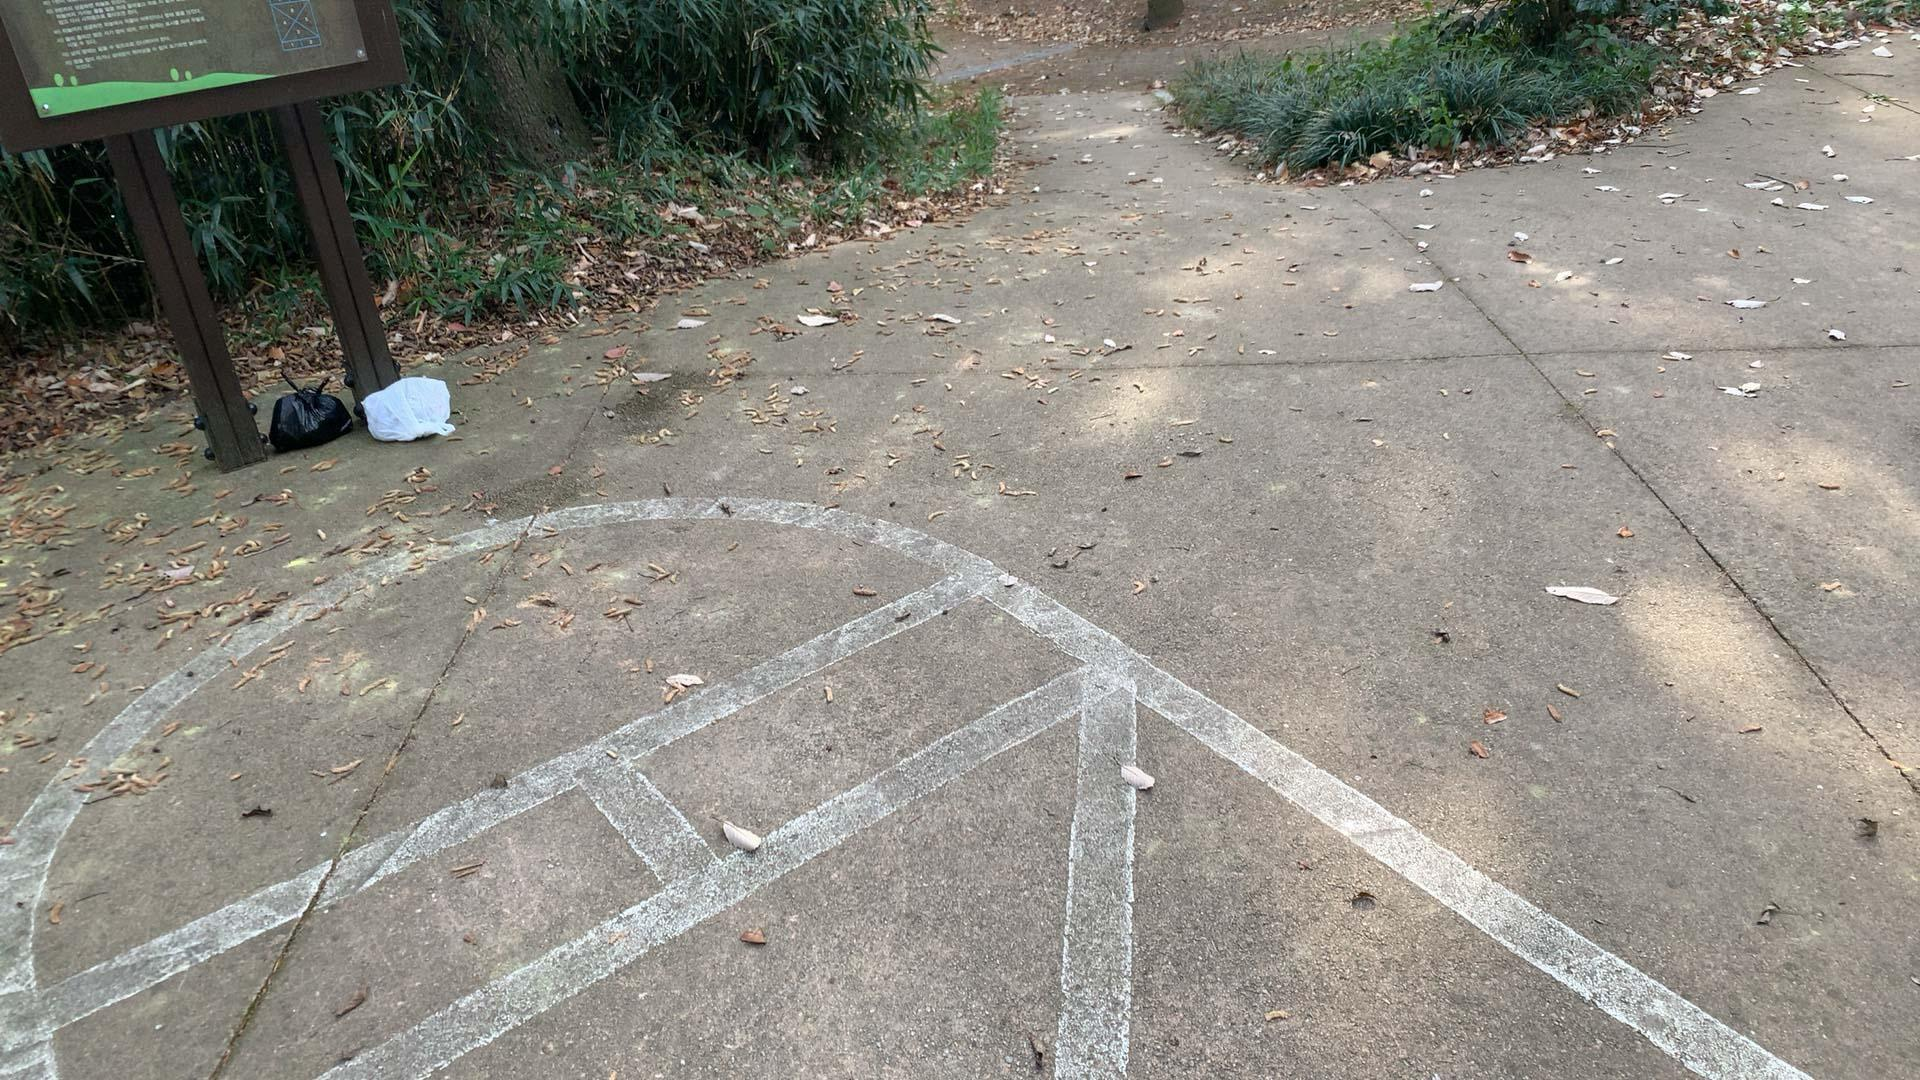black_bag: (265, 363, 357, 451)
white_bag: (352, 375, 462, 444)
